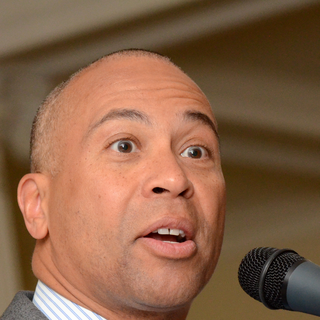eye: (97, 130, 148, 162), (168, 136, 217, 166)
